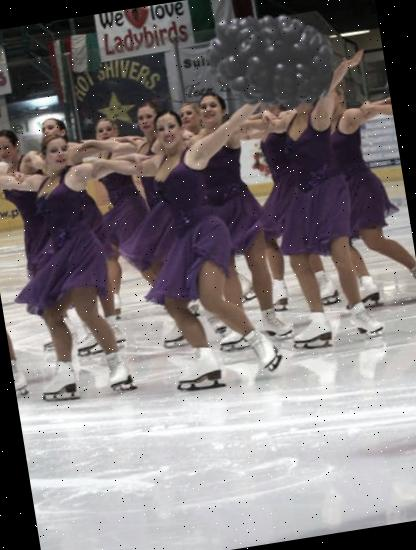Mulberry: (194, 0, 344, 135)
